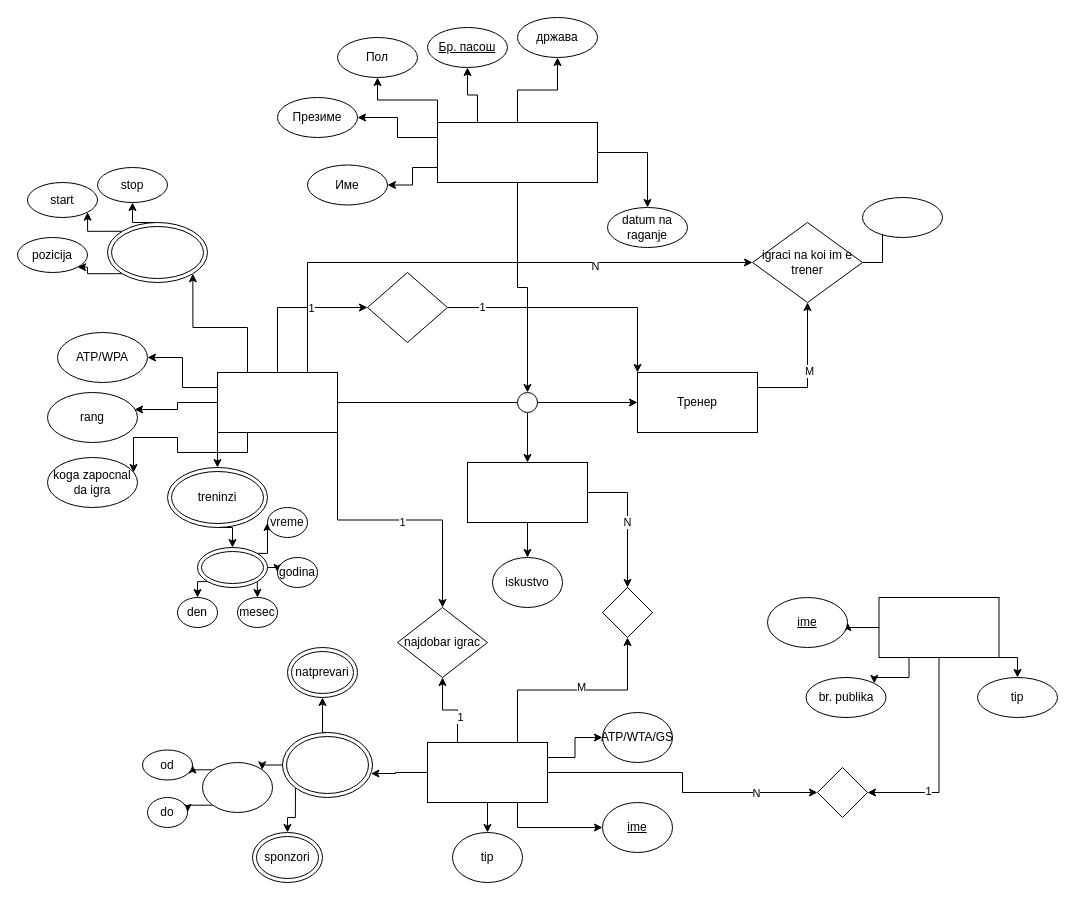
Image size: 1075x900. Some labels were removed from this diagram. Here are the shapes that lost their labels. From the top down, the centre of each, then its label:
At (517,152): "Учесник".
At (902,217): "sega/porano".
At (157,252): "istorija na pozicii".
At (407,307): "igrac stanal trener".
At (277,402): "Играч".
At (527,492): "Судија".
At (232,567): "datumi".
At (938,627): "Teren".
At (327,765): "istorija".
At (487,772): "Turnir".
At (237,787): "period".
